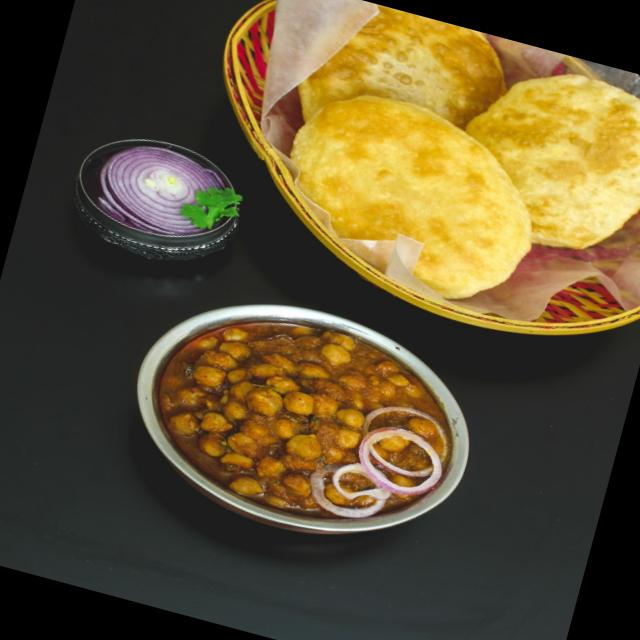Bhatura: (264, 77, 556, 316), (444, 50, 640, 272), (291, 0, 519, 170)
Chole: (134, 285, 474, 550)
